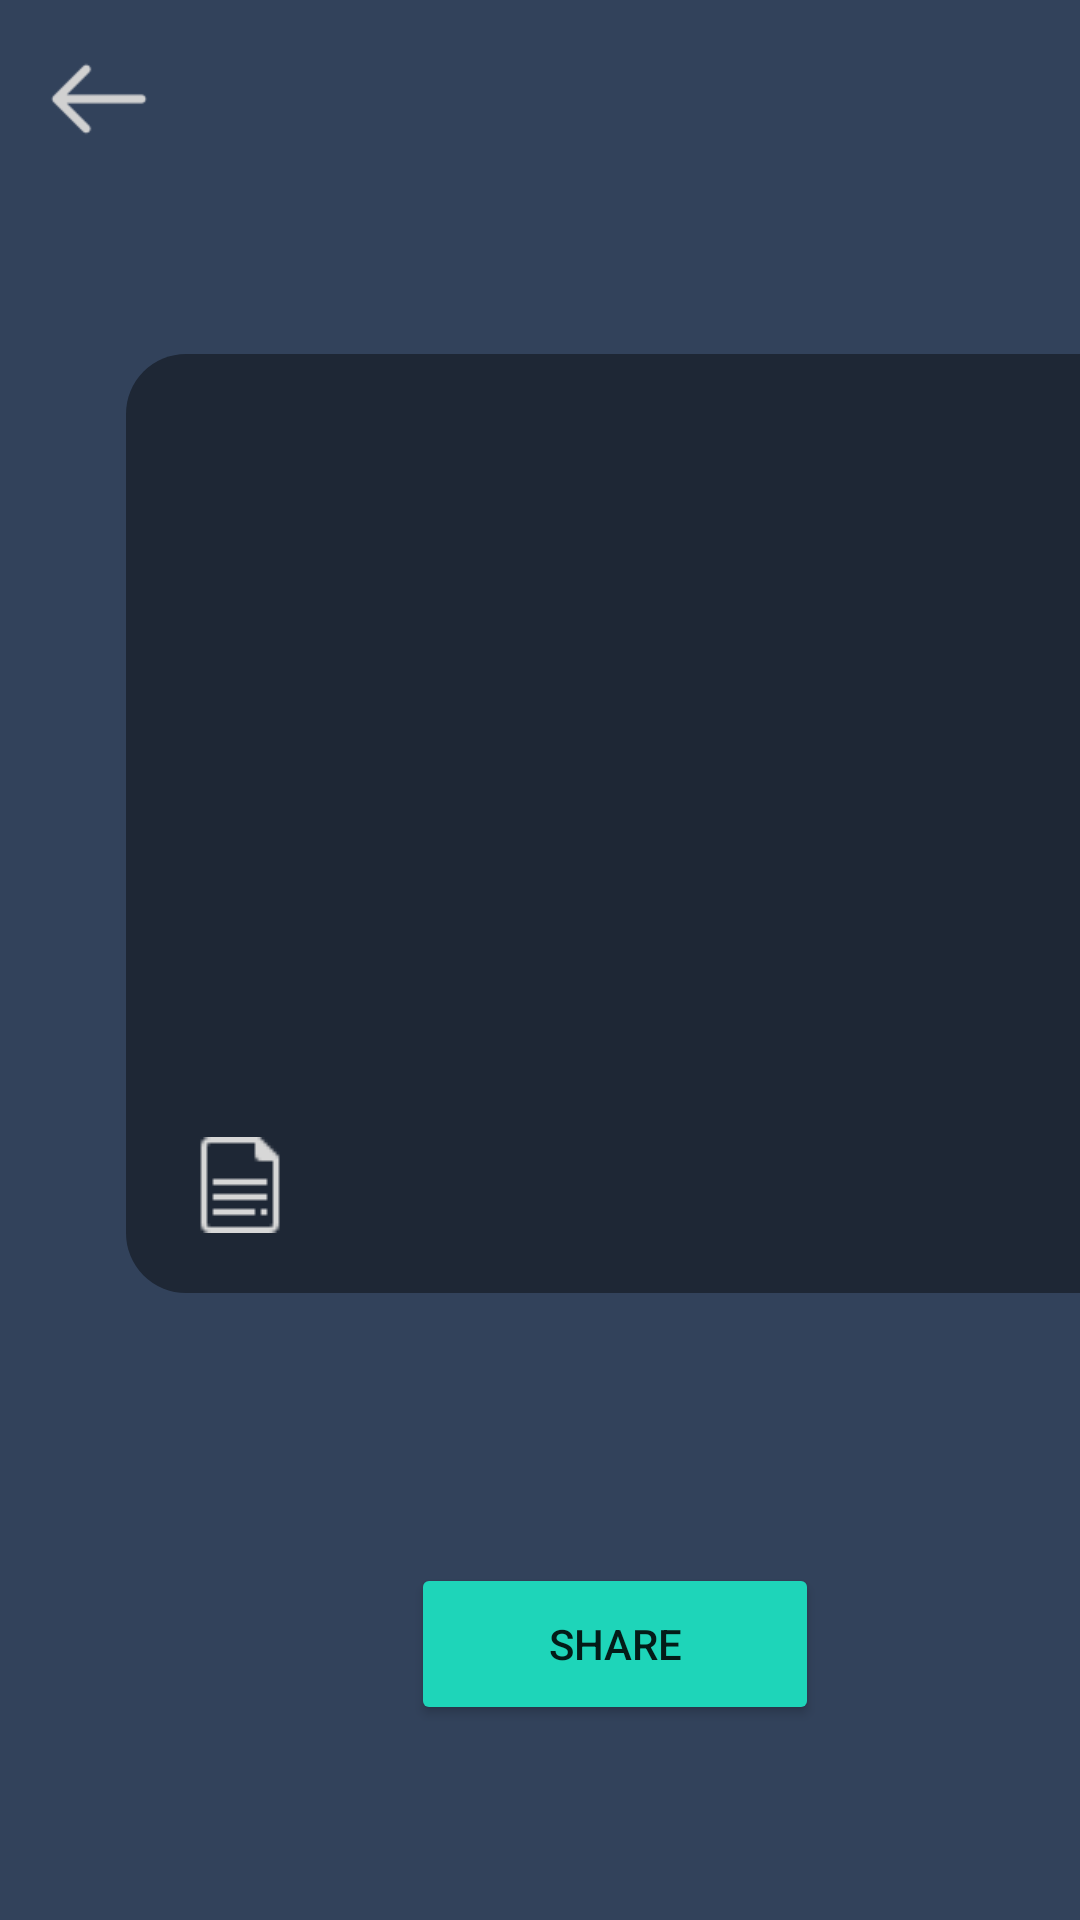

Screen size 1080×1920. Icon name, then its center in pixels as (x,y):
back: (99,99)
files: (240,1185)
